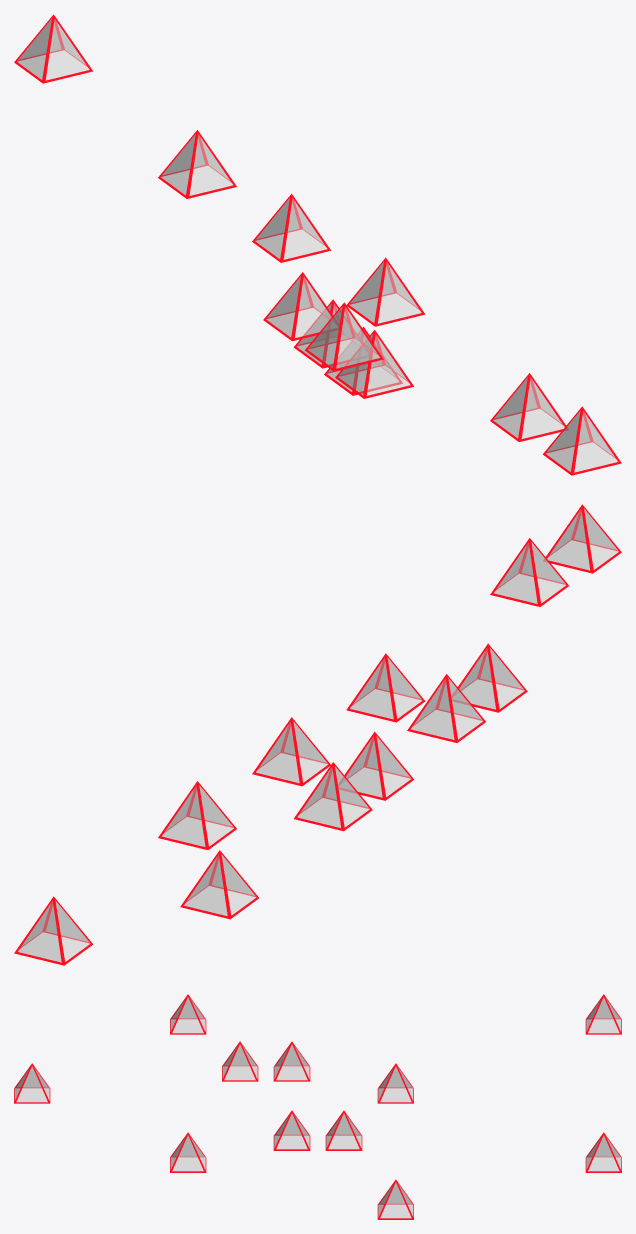
File: (6)E Spike.fbx
3 renders of one model, top to bottom at view 1: azimuth 30°, elevation 25°; view 2: azimuth 150°, elevation 25°; view 3: azimuth 270°, elevation 25°, orthographic. The views are drawn at different scales.
Visible parts, largest first — view 1: Spike..019, Spike..015, Spike..018, Spike..014, Spike..017, Spike..006, Spike..007, Spike..020, Spike..012, Spike..013, Spike..005; view 2: Spike..006, Spike..007, Spike..013, Spike..017, Spike..018, Spike..005, Spike..020, Spike..014, Spike..015, Spike..019, Spike..012; view 3: Spike..020, Spike..012, Spike..013, Spike..017, Spike..018, Spike..014, Spike..015, Spike..019, Spike..006, Spike..007, Spike..005.
Part boxes in pixels (x1,y1,x2,y2): Spike..019: [305, 302, 383, 371]; Spike..015: [543, 406, 621, 475]; Spike..018: [14, 14, 93, 83]; Spike..014: [252, 193, 330, 262]; Spike..017: [346, 257, 425, 326]; Spike..006: [158, 130, 236, 198]; Spike..007: [490, 373, 568, 441]; Spike..020: [263, 272, 338, 341]; Spike..012: [335, 330, 413, 398]; Spike..013: [293, 299, 362, 368]; Spike..005: [324, 327, 402, 395]; Spike..006: [14, 896, 92, 965]; Spike..007: [346, 653, 425, 722]; Spike..013: [294, 762, 372, 831]; Spike..017: [490, 538, 568, 606]; Spike..018: [158, 781, 236, 849]; Spike..005: [180, 850, 258, 919]; Spike..020: [407, 674, 485, 742]; Spike..014: [252, 717, 330, 786]; Spike..015: [543, 504, 621, 573]; Spike..019: [452, 643, 527, 712]; Spike..012: [338, 731, 414, 800]; Spike..020: [273, 1041, 310, 1081]; Spike..012: [273, 1110, 310, 1150]; Spike..013: [325, 1110, 362, 1150]; Spike..017: [170, 994, 206, 1034]; Spike..018: [585, 994, 621, 1034]; Spike..014: [377, 1063, 413, 1103]; Spike..015: [14, 1063, 50, 1103]; Spike..019: [222, 1041, 258, 1081]; Spike..006: [585, 1132, 621, 1172]; Spike..007: [170, 1132, 206, 1172]; Spike..005: [377, 1179, 413, 1219].
Size of the model in its own units: 540 by 740 by 2340.
